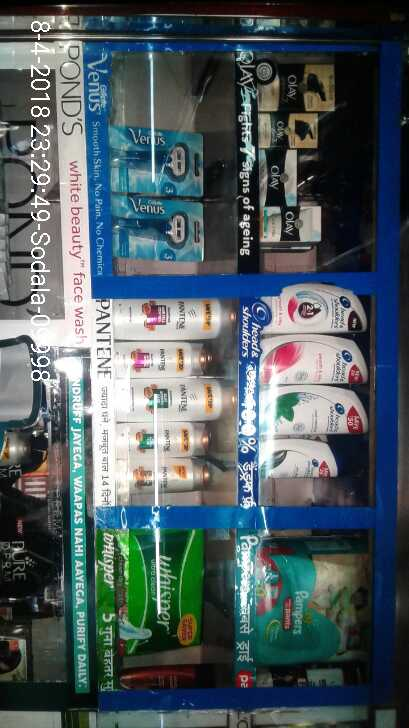venus: (113, 127, 209, 193), (113, 198, 204, 263)
